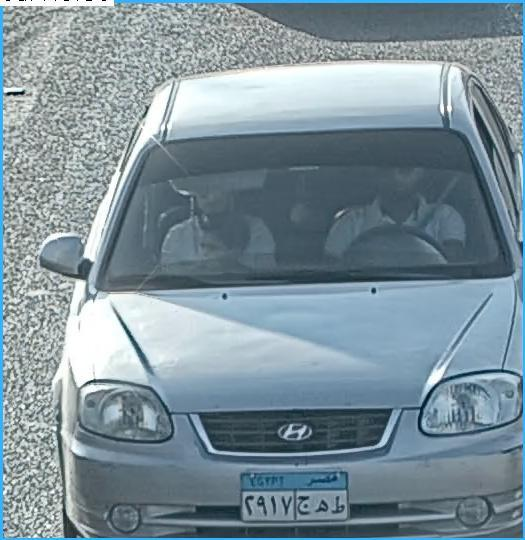windshield: (86, 121, 522, 301)
